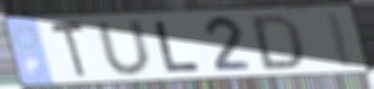2: (202, 14, 258, 74)
D: (250, 12, 306, 72)
I: (323, 9, 356, 70)
L: (151, 19, 203, 74)
T: (47, 19, 89, 82)
U: (93, 18, 156, 77)
